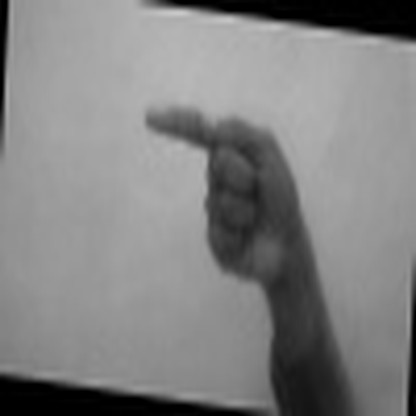g: (107, 101, 354, 290)
